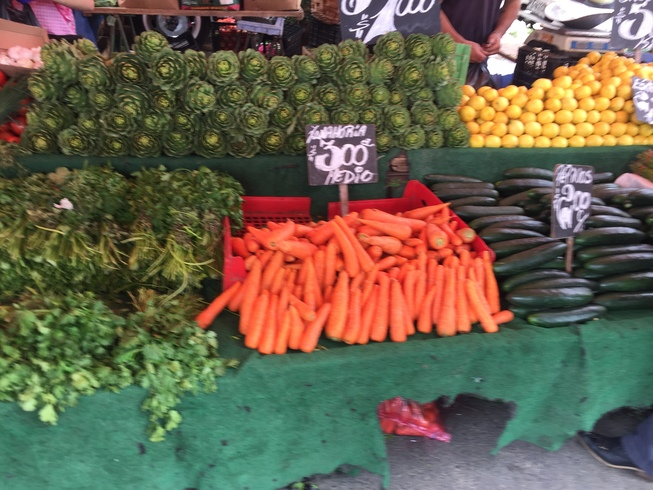precio: (300, 120, 384, 187), (549, 159, 598, 241), (629, 72, 653, 128)
